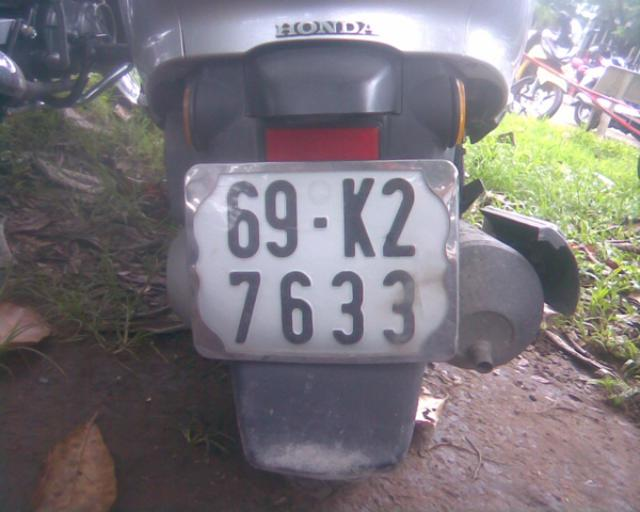plate: (187, 160, 459, 360)
